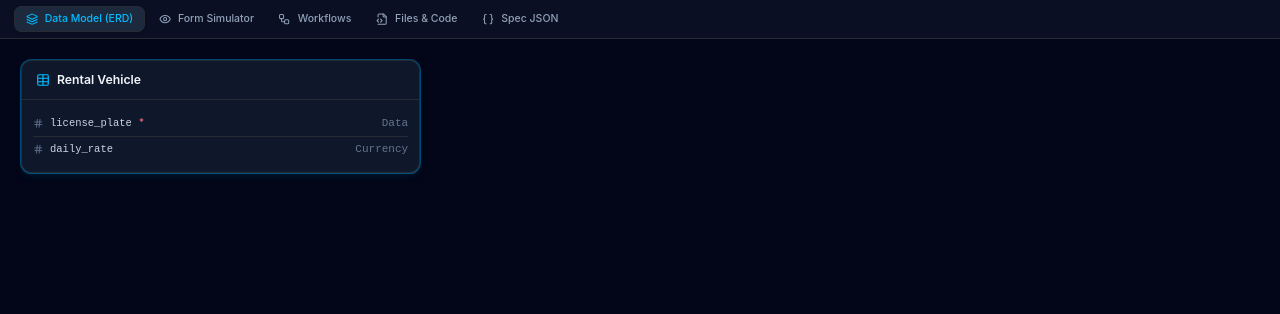
CentreWorkbench Component › switches between tabs cleanly
Click Form Simulator tab
Click the button "Form Simulator".
click(206, 19)  # box [148,6,264,31]
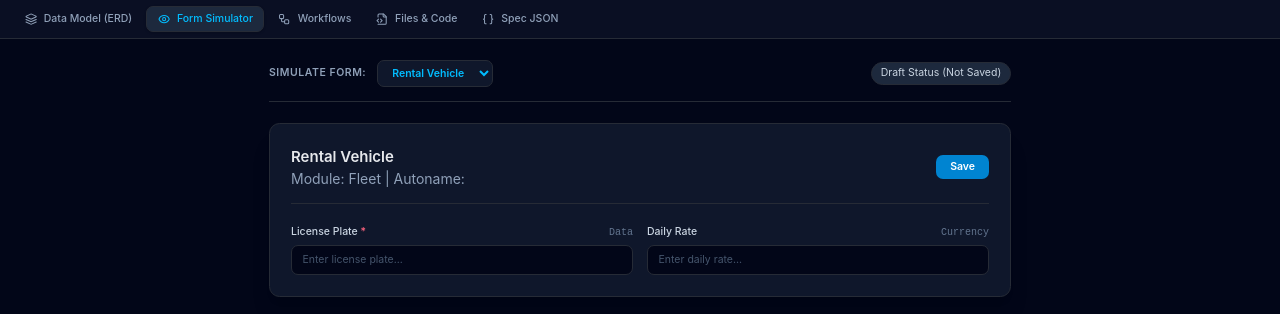
Expected: the text "Simulate Form:" is shown, [269,66,366,80]
Click Workflows tab
Click the button "Workflows".
click(315, 19)  # box [268,6,362,31]
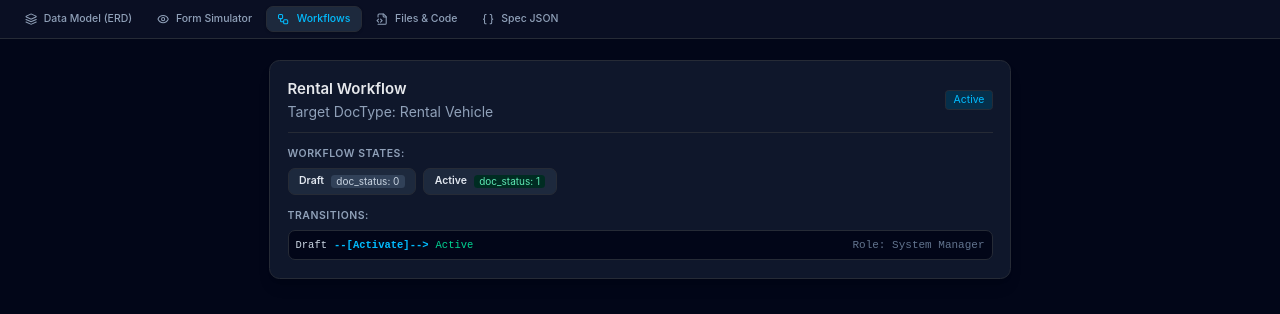
Expected: the heading "Rental Workflow" is shown, [288,79,406,98]
Expected: the text "Draft" below "Workflow States:" is shown, [299,174,324,187]
